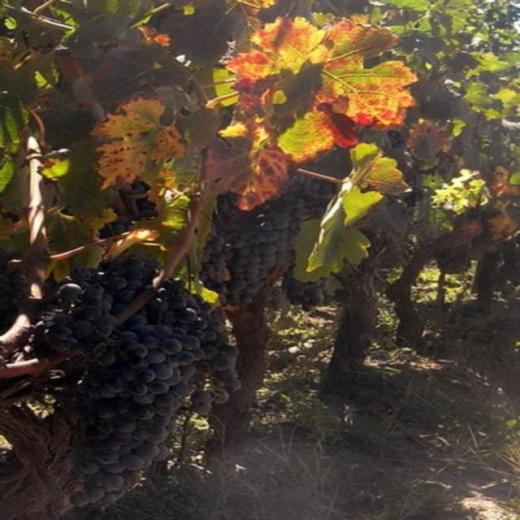Orange: (35, 257, 244, 507), (200, 174, 333, 307), (98, 181, 160, 238)
